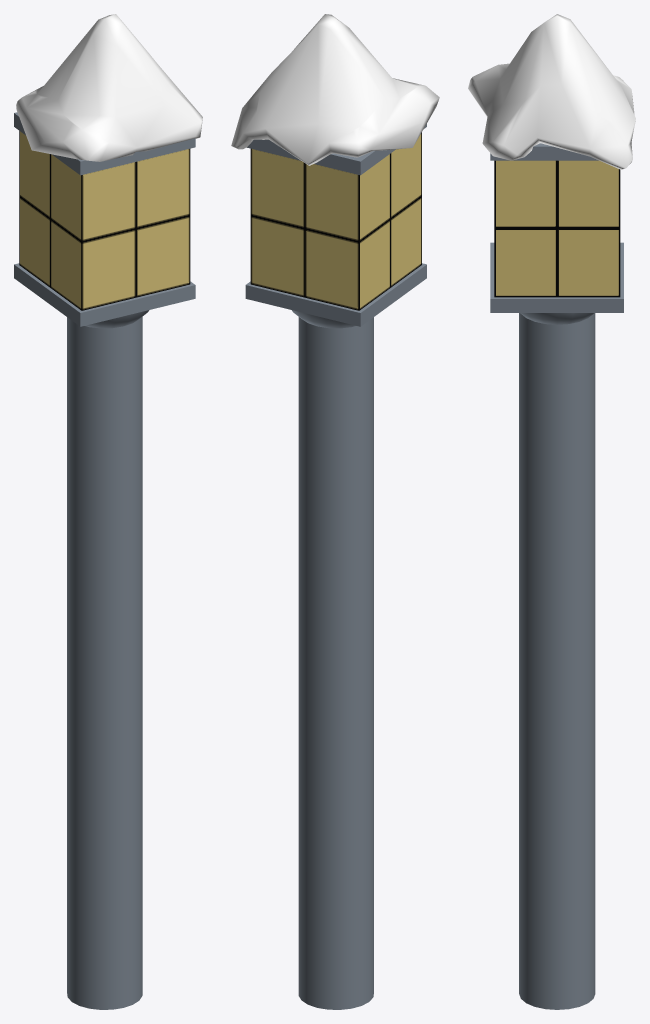
File: lampCP.obj
The picture shows the model from 3 angles, left to right: view 1: azimuth 30°, elevation 25°; view 2: azimuth 150°, elevation 25°; view 3: azimuth 270°, elevation 25°; orthographic projection.
Visible parts, largest first — view 1: pCylinder1, pCube4, pCube5, pCube2, pCube3, pSphere1; view 2: pCylinder1, pCube4, pCube5, pCube2, pCube3; view 3: pCylinder1, pCube4, pCube5, pCube2, pCube3, pSphere1.
Boxes of the visible parts, x1,y1,x2,y2 form: pCylinder1: [67, 317, 142, 1009]; pCube4: [19, 131, 190, 310]; pCube5: [16, 14, 202, 161]; pCube2: [14, 263, 195, 326]; pCube3: [14, 112, 195, 175]; pSphere1: [85, 310, 149, 328]; pCylinder1: [298, 317, 373, 1009]; pCube4: [250, 132, 421, 310]; pCube5: [231, 14, 439, 165]; pCube2: [245, 263, 426, 326]; pCube3: [246, 124, 426, 175]; pCylinder1: [519, 313, 595, 1009]; pCube4: [494, 160, 620, 297]; pCube5: [468, 14, 635, 169]; pCube2: [490, 242, 623, 312]; pCube3: [490, 143, 598, 160]; pSphere1: [520, 313, 594, 324].
Bounding box in the file's own units: 0.4643 × 2.84 × 0.44.
Materials: 3 (3 with a texture image).
